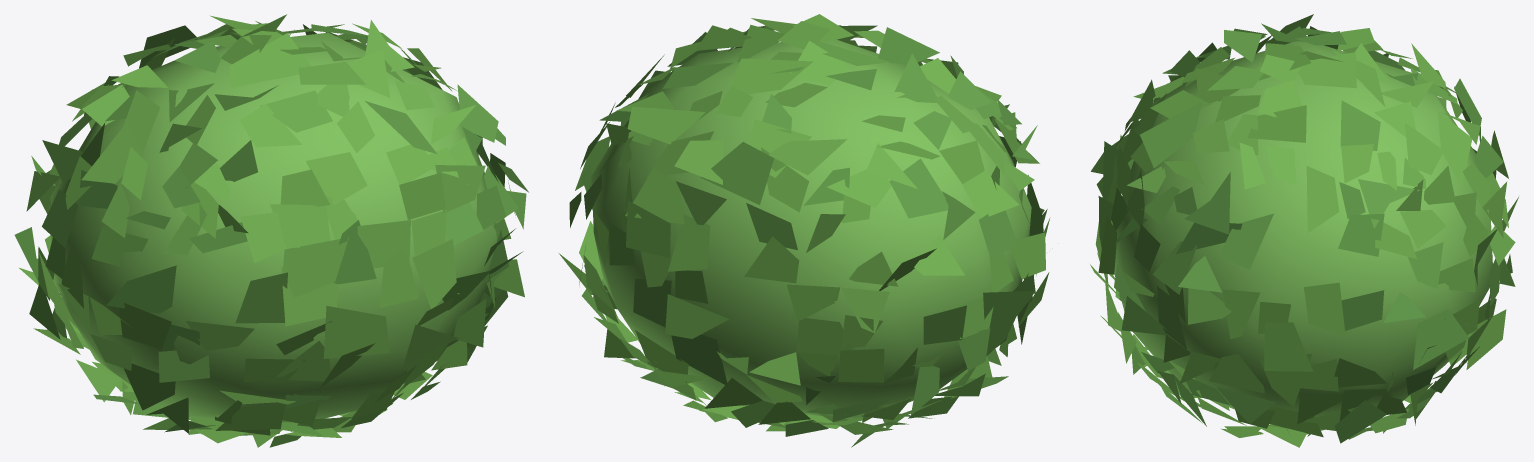
File: BUSH2.fbx
3 views of the same model, side by side, from view 1: azimuth 30°, elevation 25°; view 2: azimuth 150°, elevation 25°; view 3: azimuth 270°, elevation 25° (orthographic). The views are drawn at different scales.
Parts seen in each view (by area): view 1: Cube.029; view 2: Cube.029; view 3: Cube.029.
Boxes of the visible parts, box(x1,y1,x2,y2) form: Cube.029: box(14, 14, 528, 447); Cube.029: box(559, 14, 1050, 447); Cube.029: box(1090, 14, 1518, 447).
Size of the model in its own units: 562 by 471 by 492.
